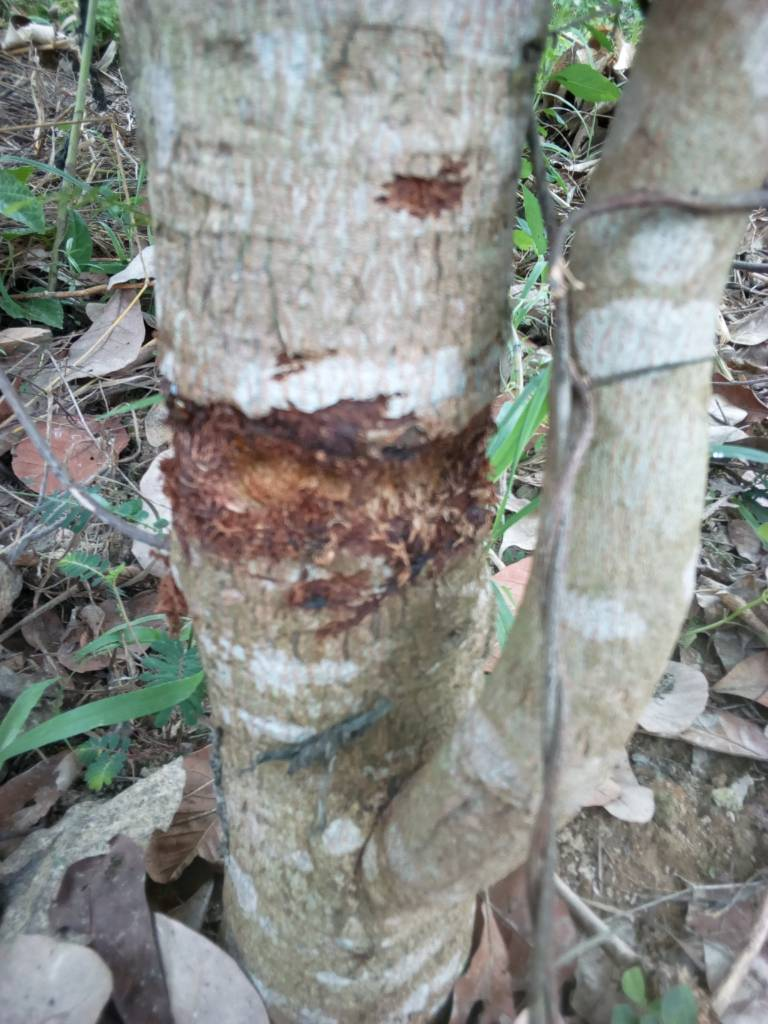Analepse trifasciata: (129, 372, 521, 572)
